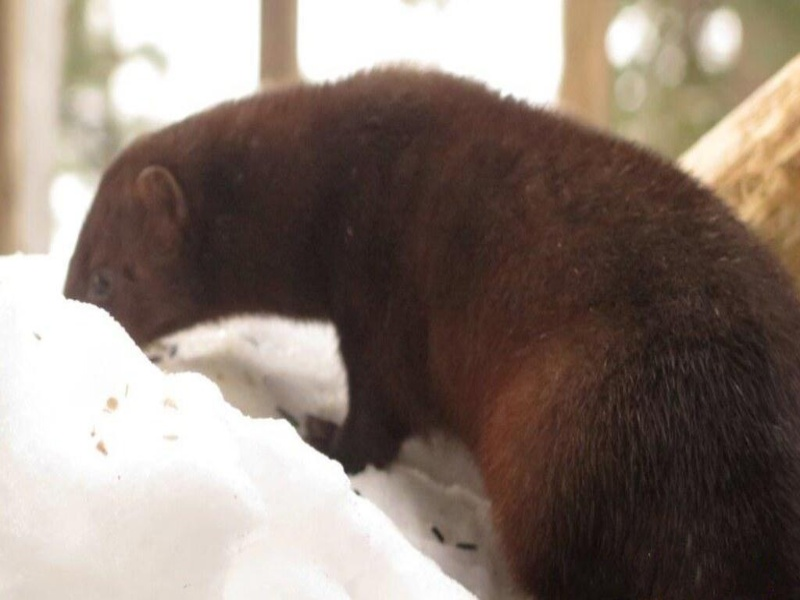minkish: (62, 61, 795, 597)
